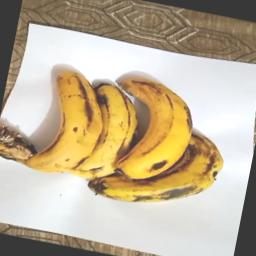Banana Unripe: (0, 58, 113, 185), (105, 73, 202, 191), (82, 77, 144, 196)
